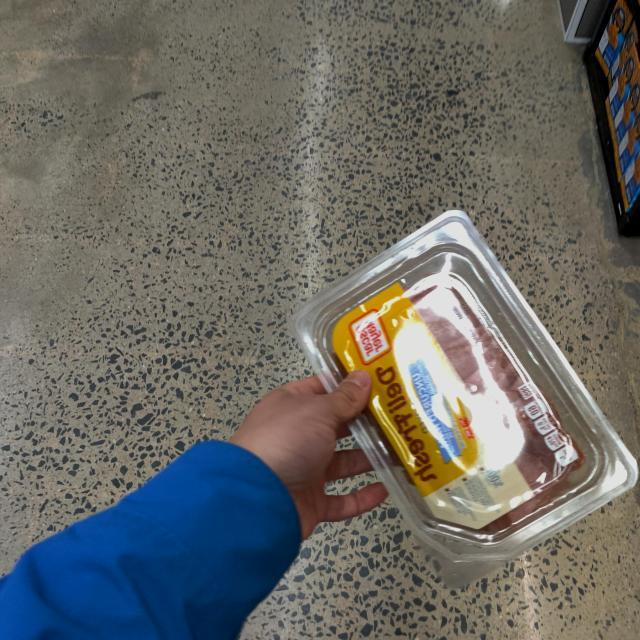Meat: (290, 206, 630, 584)
